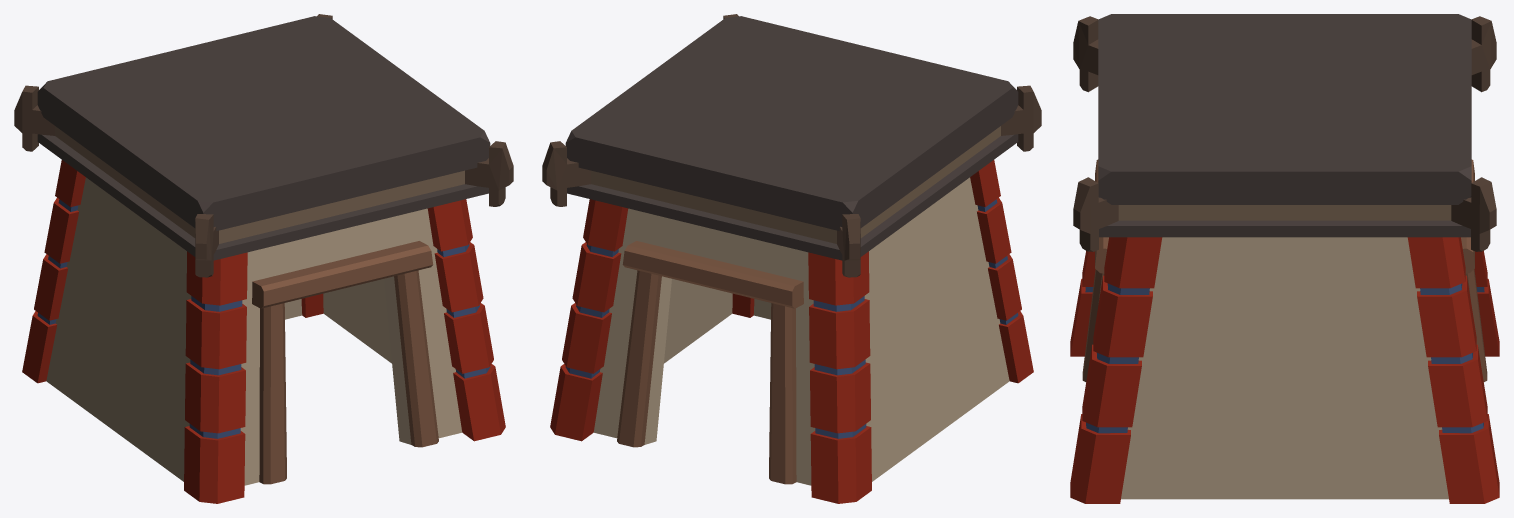
The model's file is Building_9.fbx.
The picture shows the model from 3 angles, left to right: view 1: azimuth 30°, elevation 25°; view 2: azimuth 150°, elevation 25°; view 3: azimuth 270°, elevation 25°; orthographic projection. The views are drawn at different scales.
Visible parts, largest first — view 1: Building_9; view 2: Building_9; view 3: Building_9.
Part boxes in pixels (x1,y1,x2,y2): Building_9: (14, 14, 513, 503); Building_9: (542, 14, 1041, 503); Building_9: (1070, 14, 1499, 503).
Size of the model in its own units: 5.47 by 4.78 by 5.69.
